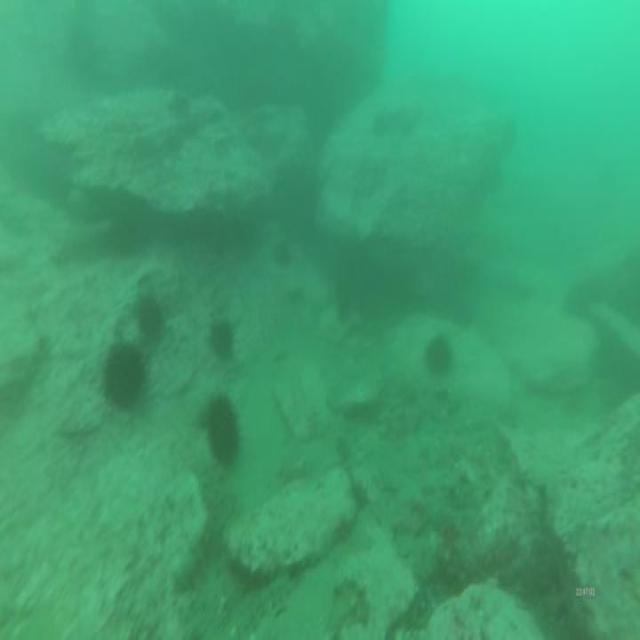echinus: (100, 335, 150, 419), (200, 390, 245, 472), (421, 325, 455, 381), (134, 289, 166, 345), (208, 315, 238, 365), (268, 235, 292, 272)
